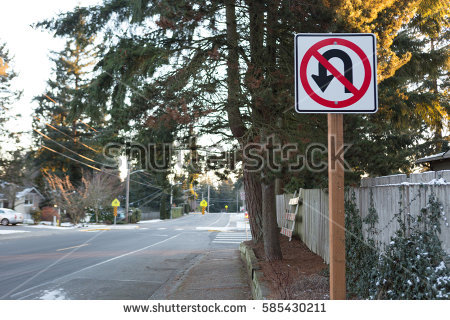No_u_turn: (300, 39, 371, 107)
